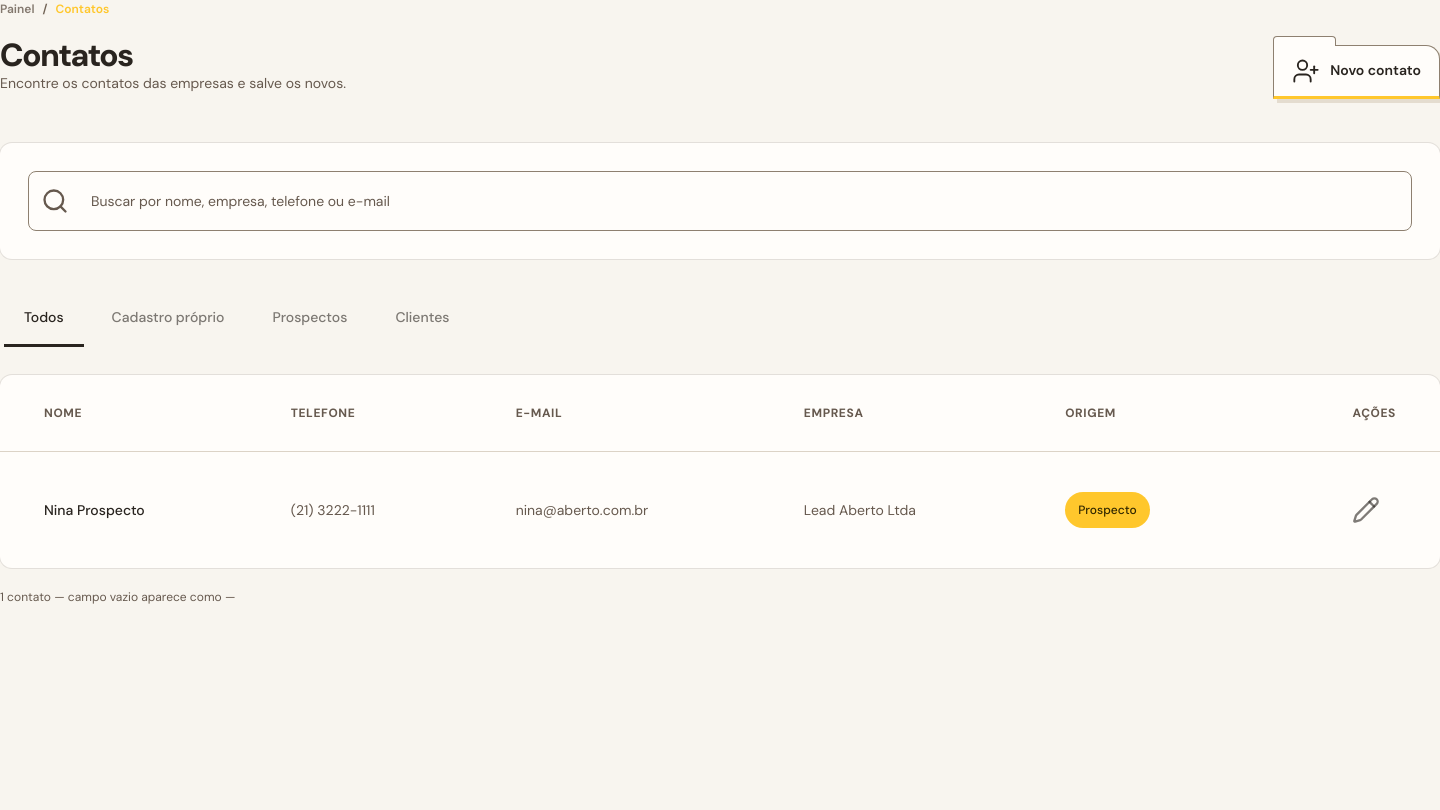
Test case: ContatosPage › explica onde o contato do prospecto é corrigido
Click the button named "editar" at (1366, 510), box [1336,480,1396,540]
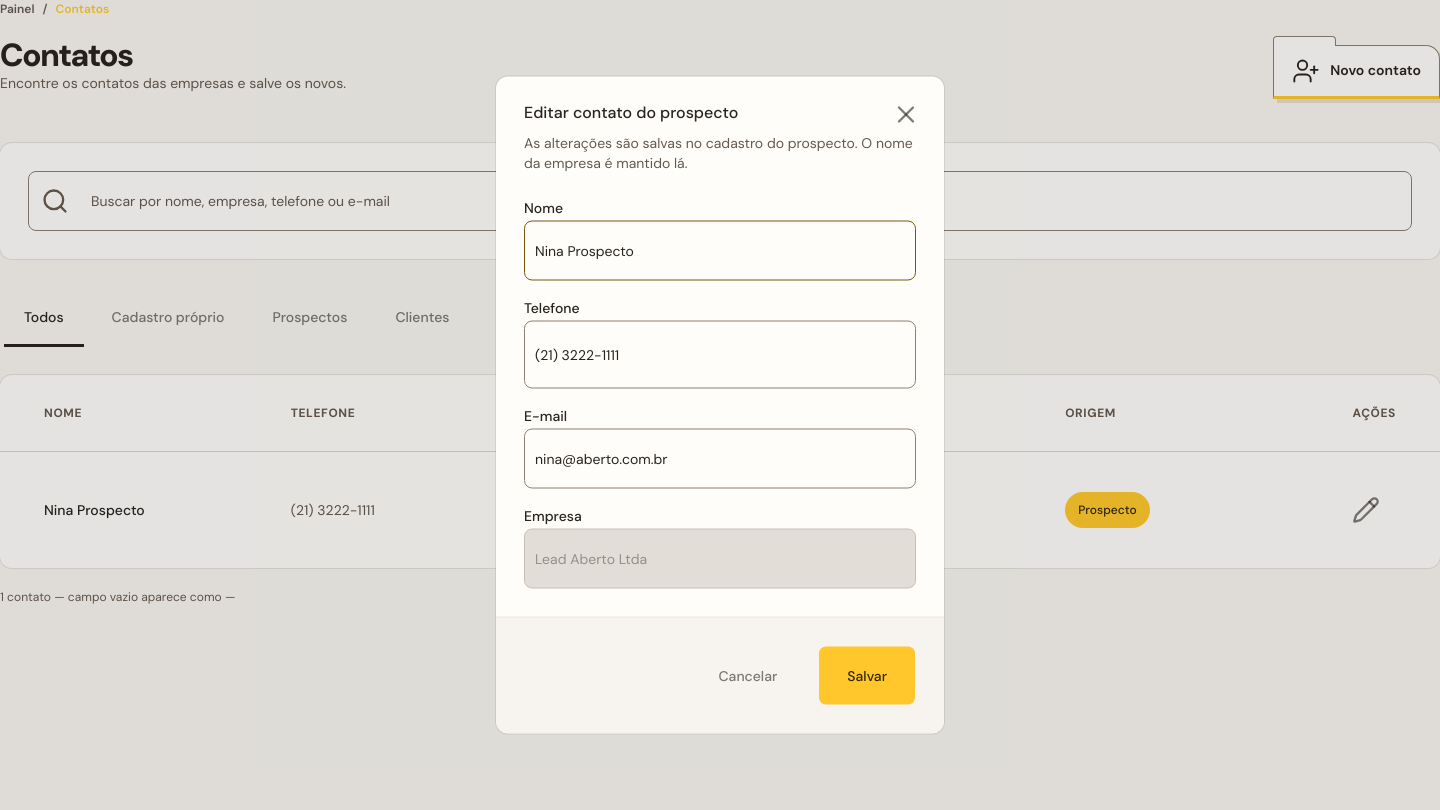
Expected: the text "cadastro do prospecto" is shown, [524,134,913,172]
